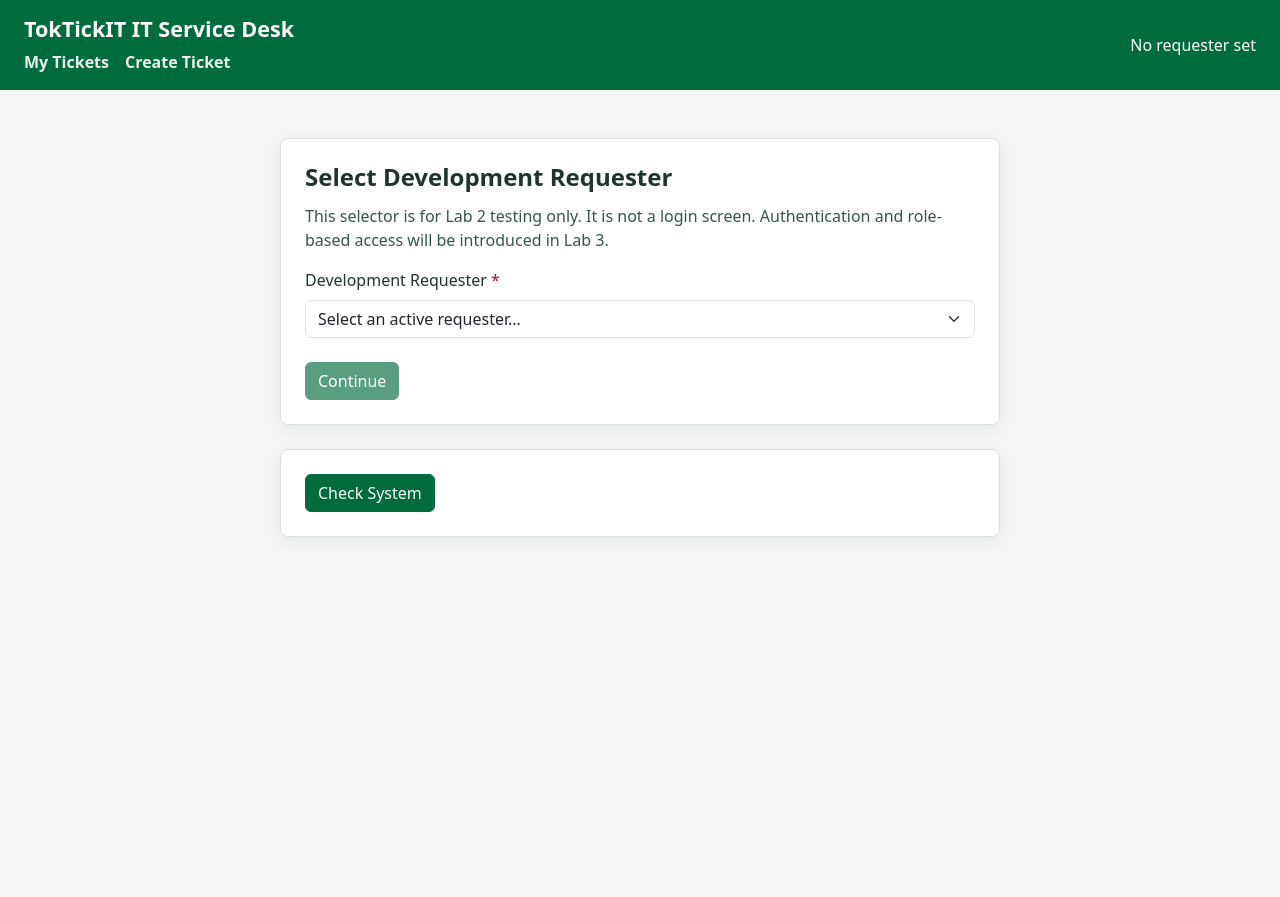
it: Requester Ticket Detail › shows a loading state while Ticket Detail is retrieved
Select "Anong Student (anong@example.test)" in the dropdown labelled "Development Requester *". click: (640,319)
box: [305,300,975,338]
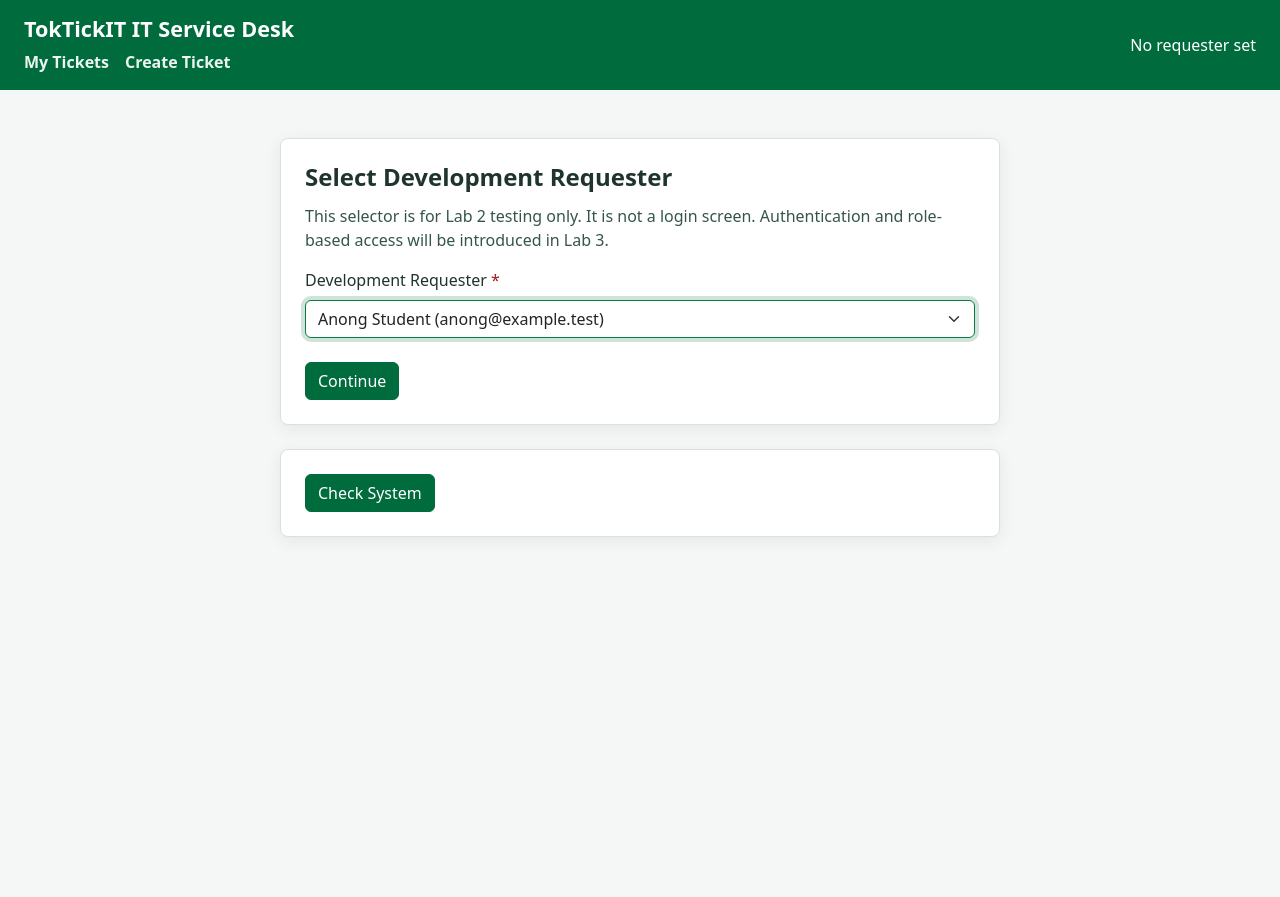
Click the button "Continue". click: (352,381)
box: [305,362,399,400]
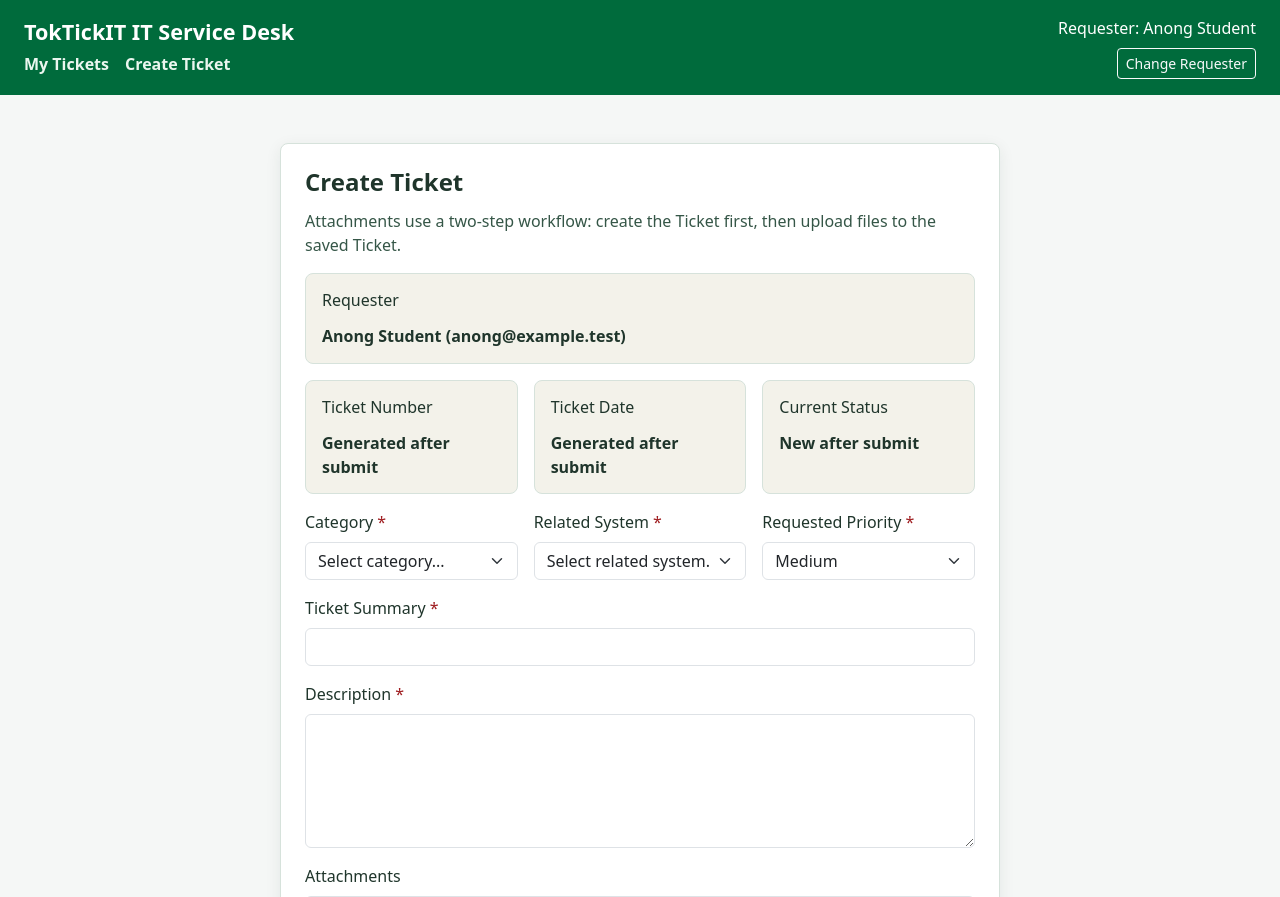
Click the link "My Tickets". click: (66,64)
box: [24,52,109,76]
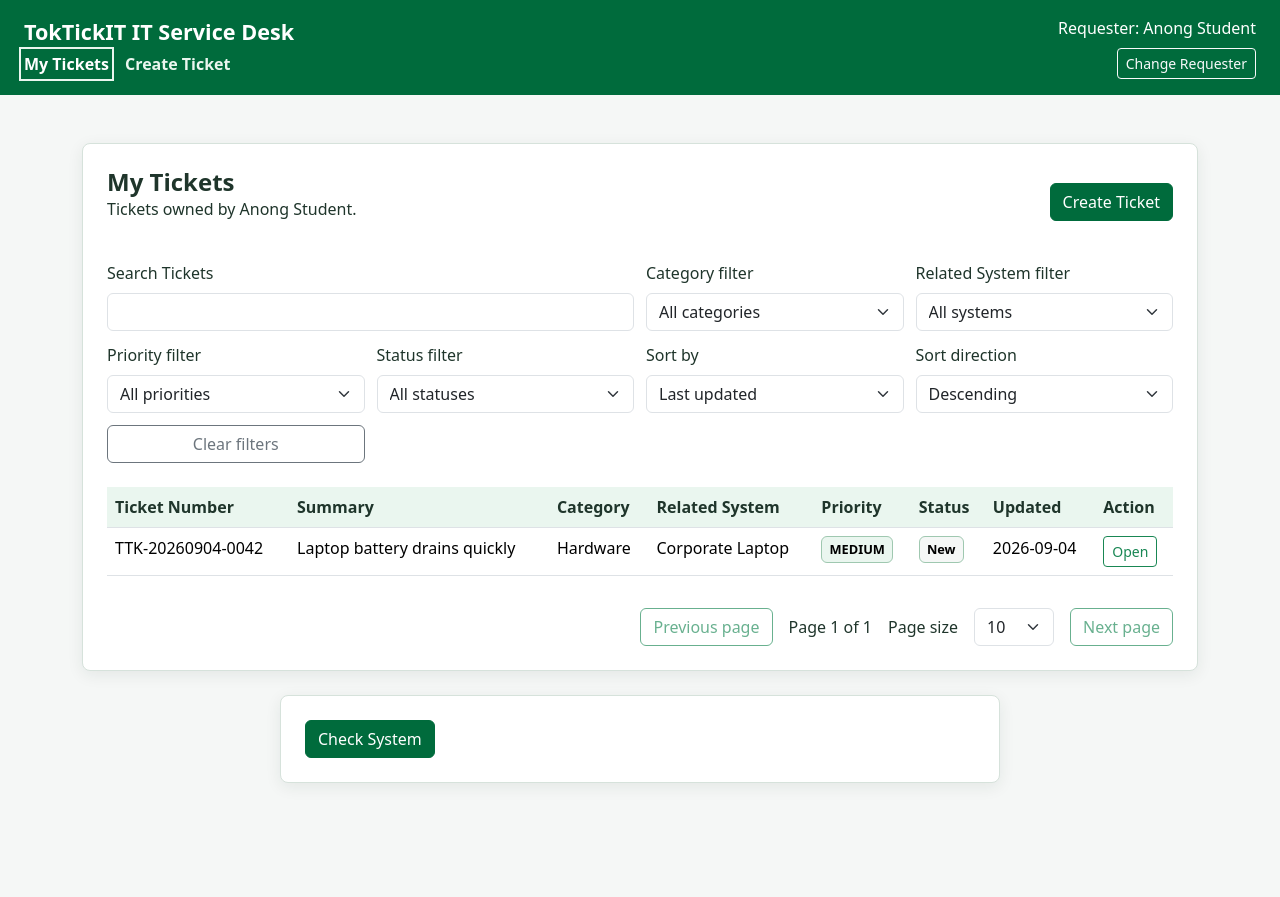
Click the button with aria-label "Open Ticket TTK-20260904-0042". click: (1130,551)
box: [1103,536,1157,567]
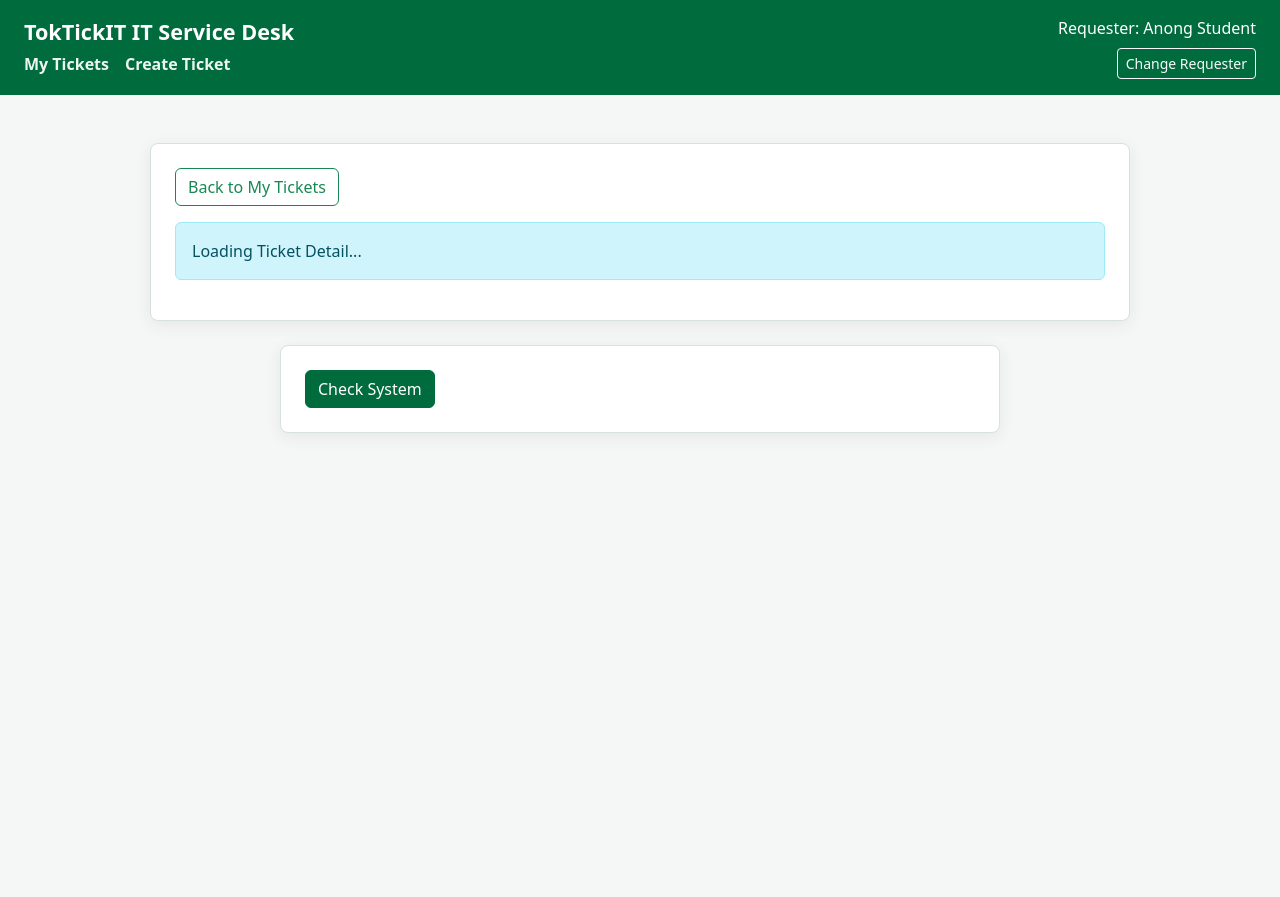
Check: the text "Loading Ticket Detail..." is shown, box [175,222,1105,280]
